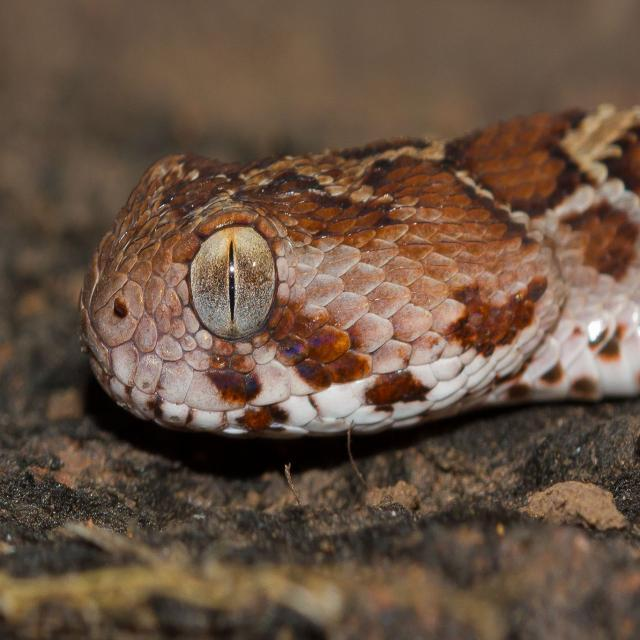Snake: (77, 101, 639, 441)
